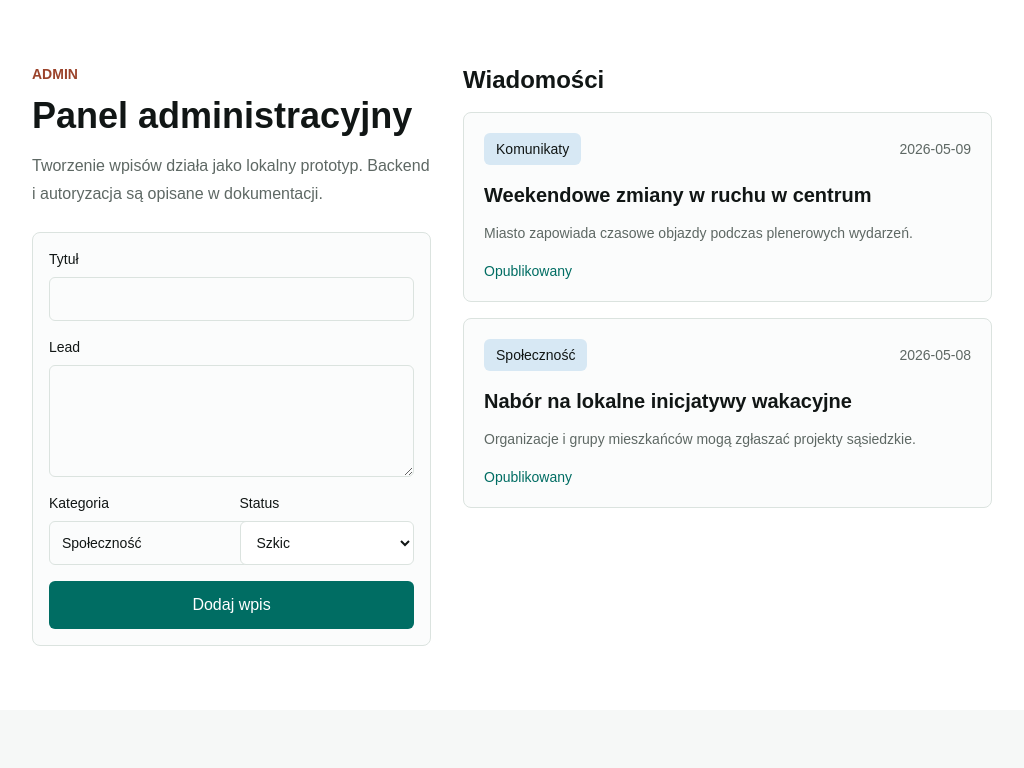
AdminPostComposer › adds a local editorial post from the admin form
The width and height of the screenshot is (1024, 768).
Type "New test post" into the field labelled "Tytuł" at coordinates (232, 299), box [49,277,414,321]
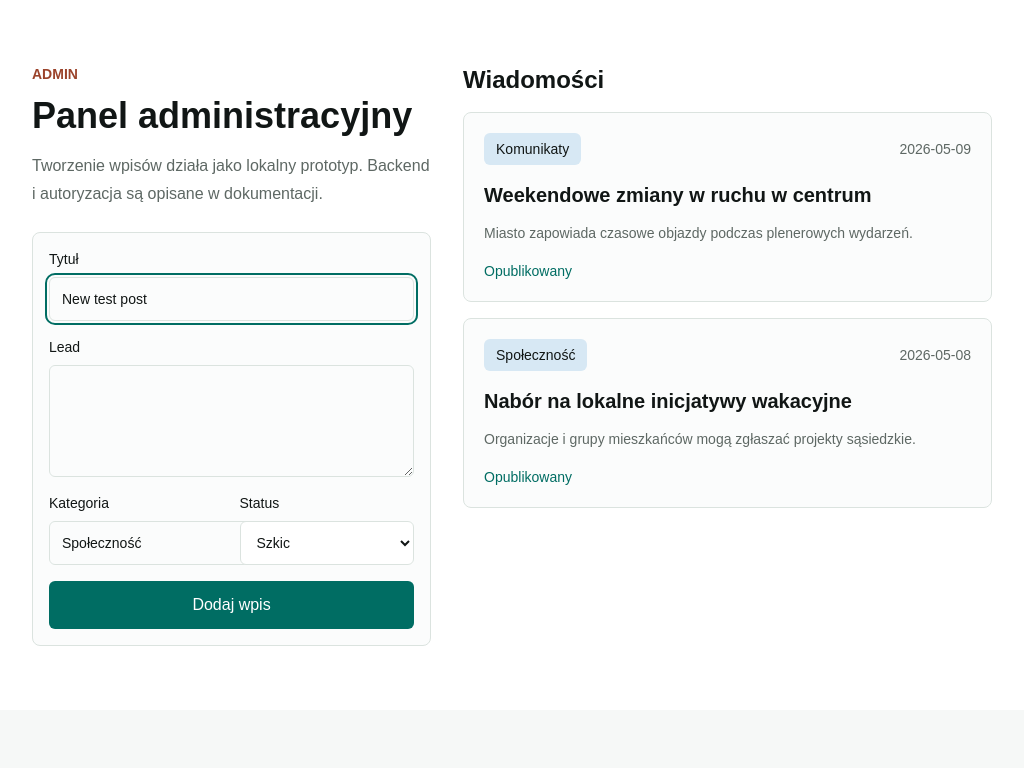
Type "Short test post summary." into the text box labelled "Lead" at coordinates (232, 421), box [49,365,414,477]
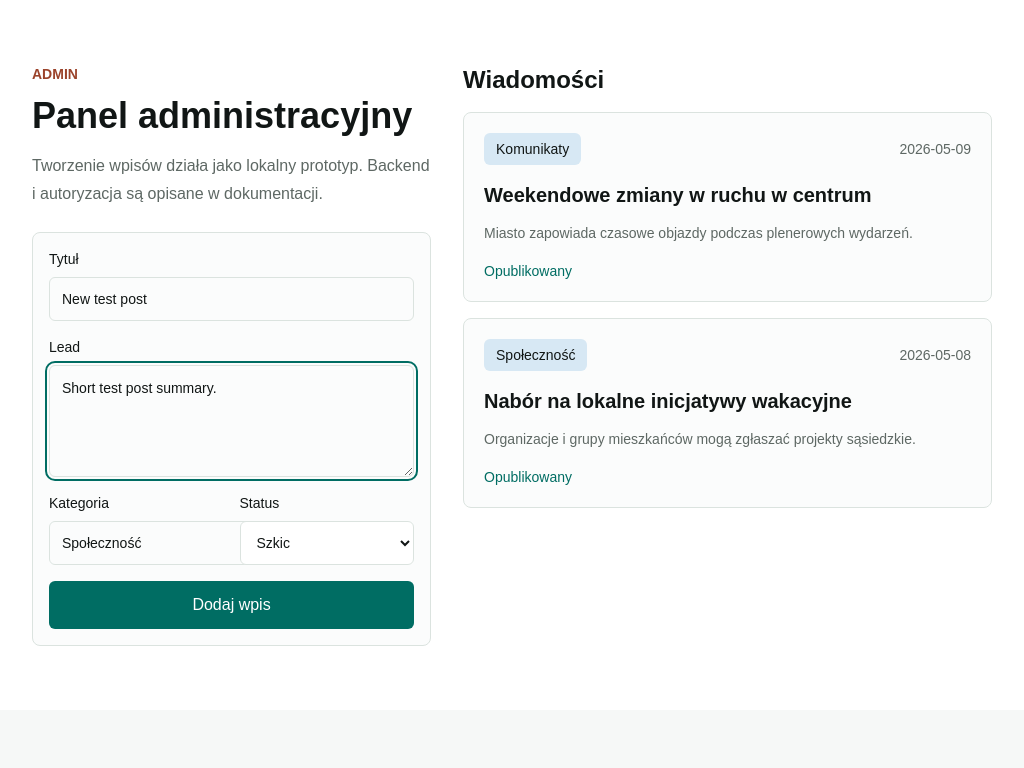
Replace the text in the field labelled "Kategoria" with "Tests" at coordinates (152, 543), box [49,521,256,565]
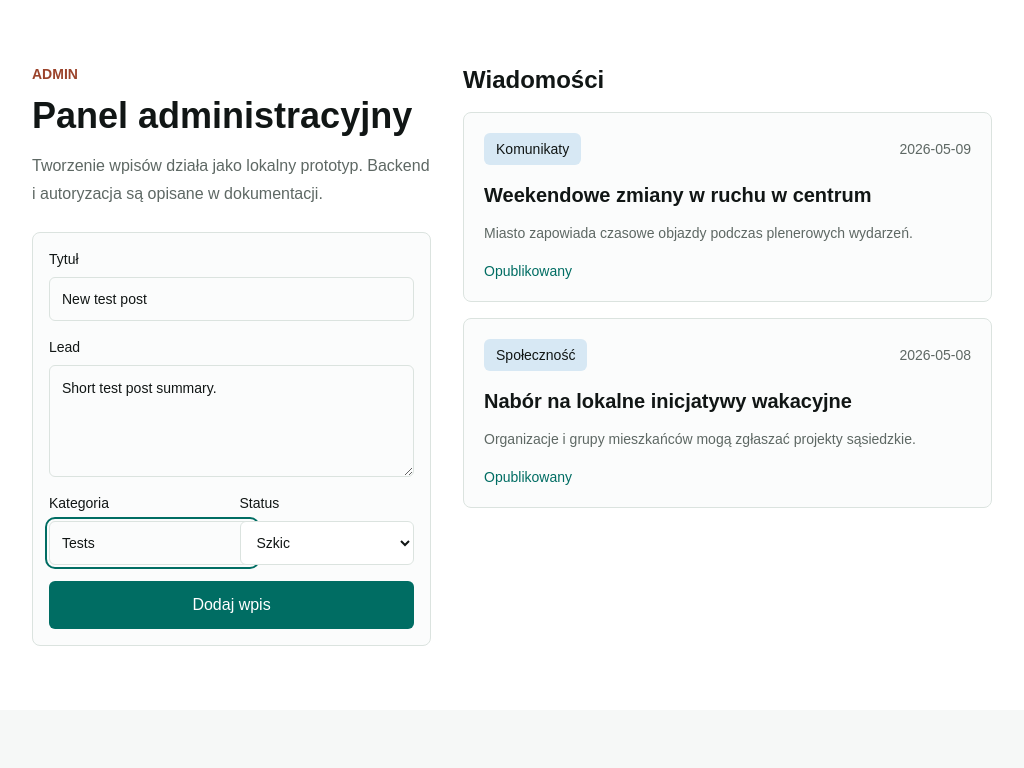
Select "Opublikowany" in the dropdown labelled "Status" at coordinates (327, 543), box [240,521,414,565]
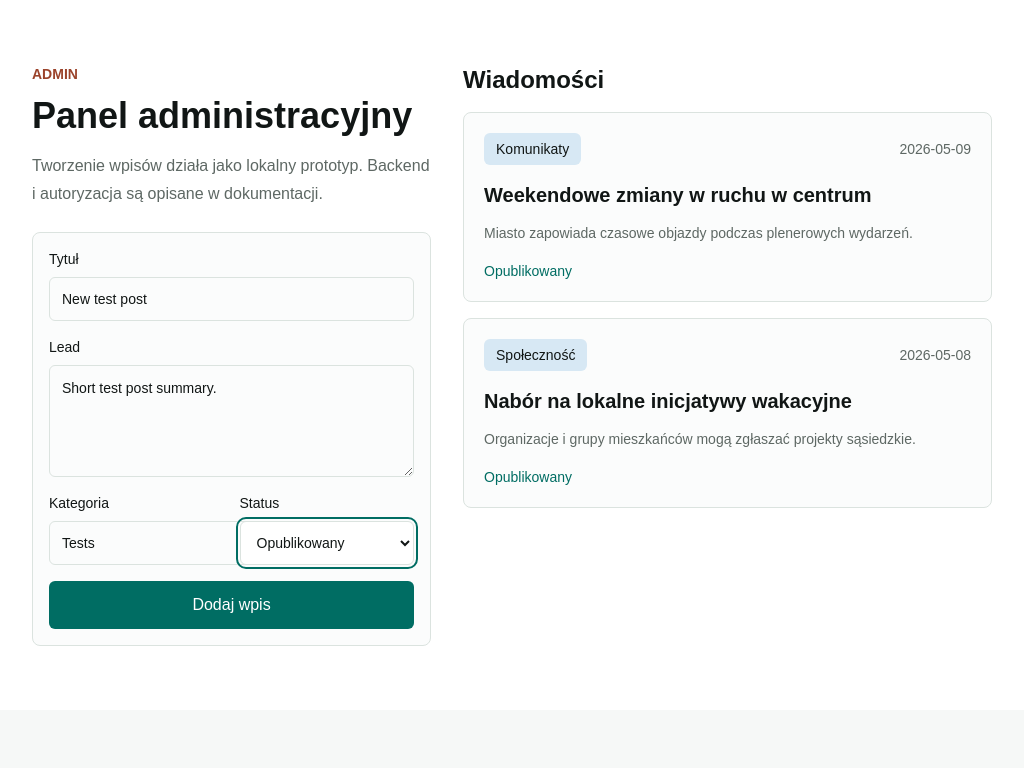
Click the button "Dodaj wpis" at coordinates (232, 605), box [49,581,414,629]
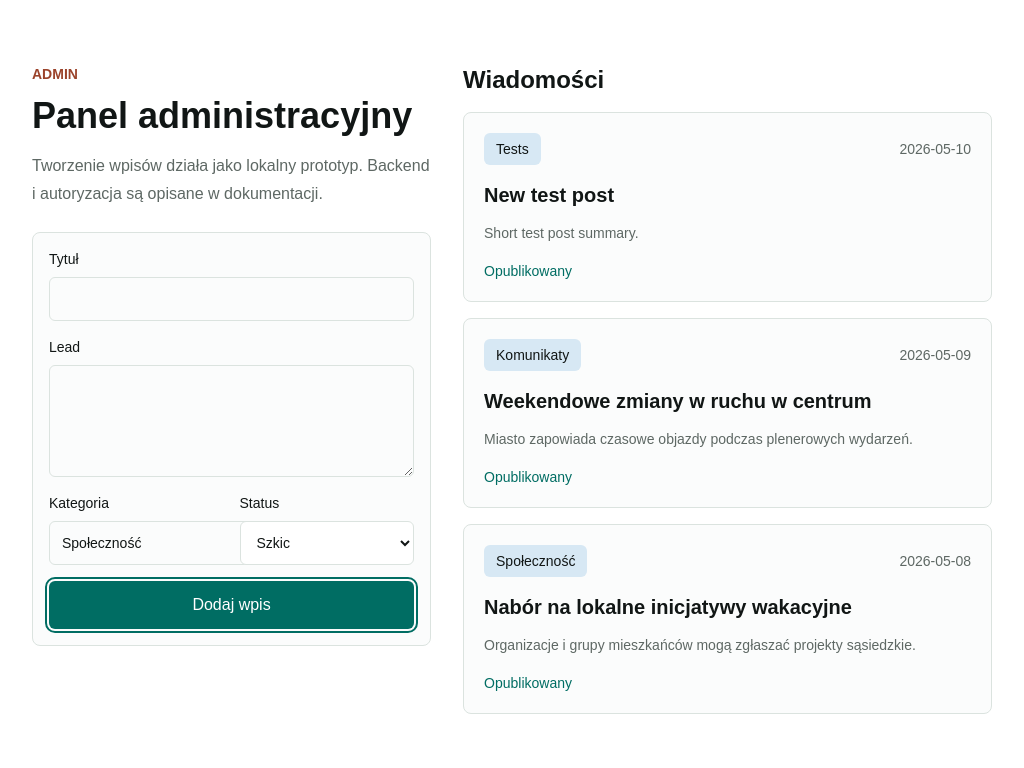
Result: the heading "New test post" is shown at [484,184,614,206]
Result: the text "Short test post summary." is shown at [484,225,639,241]
Result: the text "Tests" is shown at [484,133,541,165]
